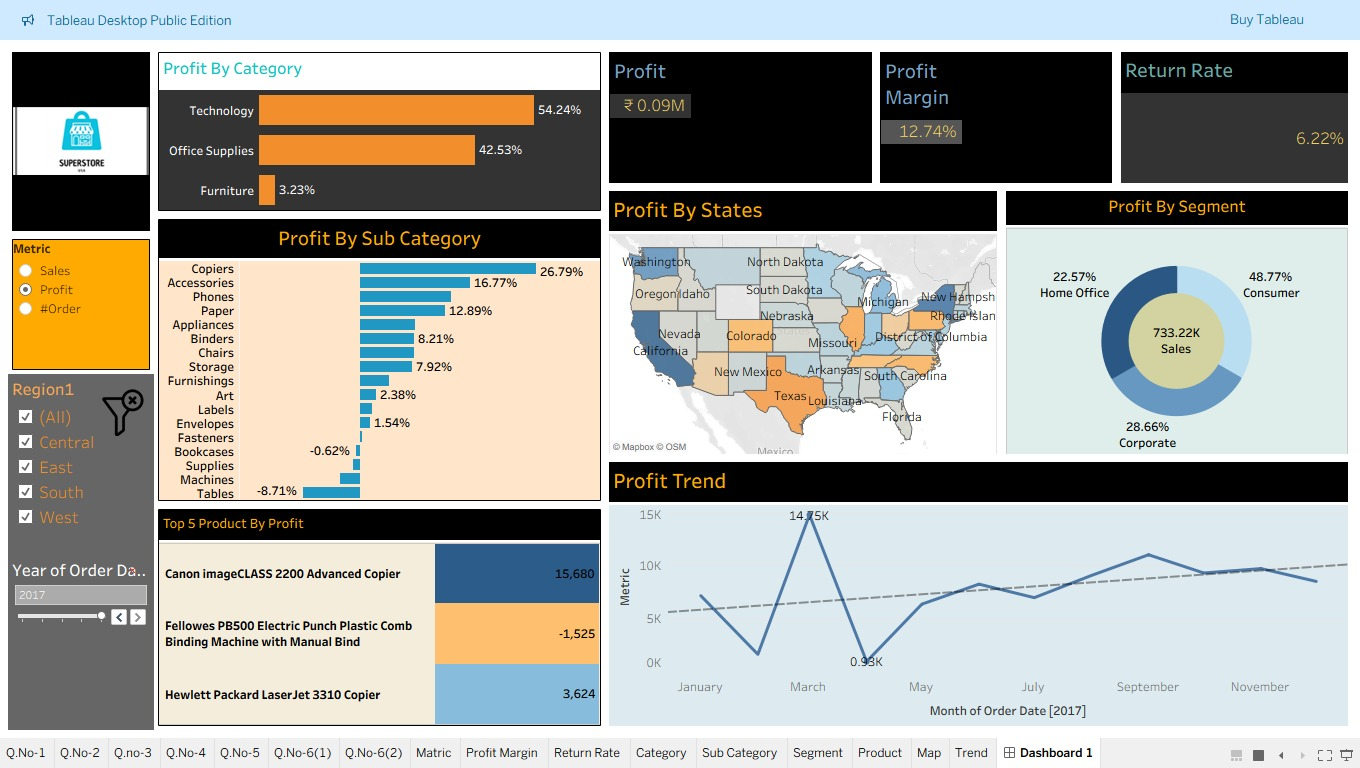

What the dashboard file says about the page in this screenshot:
{"tool":"tableau","page":{"name":"Dashboard 1","canvas":[1000,1000],"units":"permille","ordinal":0},"visuals":[{"type":"image","param":"Image/Screenshot 2025-12-28 163943.png","box":[7,14.5,107.4,266]},{"type":"worksheet","title":"Category","mark":"Automatic","rows":["Category"],"cols":["Calculation_1358398259347267584"],"box":[114.4,14.5,331,237.5]},{"type":"worksheet","title":"Matric","mark":"Automatic","box":[445.3,14.5,198.7,197.9]},{"type":"worksheet","title":"Profit Margin","mark":"Automatic","box":[644,14.5,176.3,197.9]},{"type":"worksheet","title":"Return Rate","mark":"Automatic","box":[820.4,14.5,172.7,197.9]},{"type":"worksheet","title":"Map","mark":"Multipolygon","box":[445.3,212.4,290.8,386.6]},{"type":"worksheet","title":"Segment","mark":"Pie","rows":["Calculation_1358398259358949381","Calculation_1358398259358978055"],"box":[736.1,212.4,256.9,386.6]},{"type":"worksheet","title":"Sub Category","mark":"Automatic","rows":["Sub-Category"],"cols":["Calculation_1358398259347267584"],"box":[114.4,252,331,413.2]},{"type":"parameter","param":"[Parameters].[Parameter 2]","box":[7,280.5,107.4,198.2]},{"type":"filter","title":"Matric","param":"[federated.08t9j6r03xaon812o74lq11lrcmp].[none:Region:nk]","box":[7,478.7,107.4,327.9]},{"type":"dashboard-object","box":[72.9,498.7,34.9,69.7]},{"type":"worksheet","title":"Trend","mark":"Automatic","rows":["Calculation_1358398259347267584"],"cols":["Order Date"],"box":[445.3,599,547.7,386.6]},{"type":"worksheet","title":"Product","mark":"Square","rows":["Product Name"],"box":[114.4,665.1,331,320.4]},{"type":"filter","title":"Matric","param":"[federated.08t9j6r03xaon812o74lq11lrcmp].[yr:Order Date:ok]","box":[7,806.6,107.4,144.9]}]}

Visuals, with their boxes on the dashboard's canvas, which has no fixed pixel size, in thousandths of its width and height (x1, y1, x2, y2). These are canvas units, not pixel positions in the 1360x768 screenshot, which may show the page scaled, cropped or inside an application window:
image: 7:14:114:280
"Category" worksheet: 114:14:445:252
"Matric" worksheet: 445:14:644:212
"Profit Margin" worksheet: 644:14:820:212
"Return Rate" worksheet: 820:14:993:212
"Map" worksheet (Multipolygon marks): 445:212:736:599
"Segment" worksheet (Pie marks): 736:212:993:599
"Sub Category" worksheet: 114:252:445:665
parameter: 7:280:114:479
"Matric" filter: 7:479:114:807
dashboard-object: 73:499:108:568
"Trend" worksheet: 445:599:993:986
"Product" worksheet (Square marks): 114:665:445:986
"Matric" filter: 7:807:114:952
